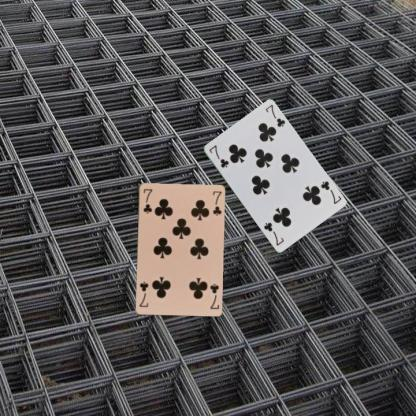7c: (206, 142, 230, 169), (318, 178, 342, 205), (208, 280, 220, 310), (141, 187, 153, 214)
